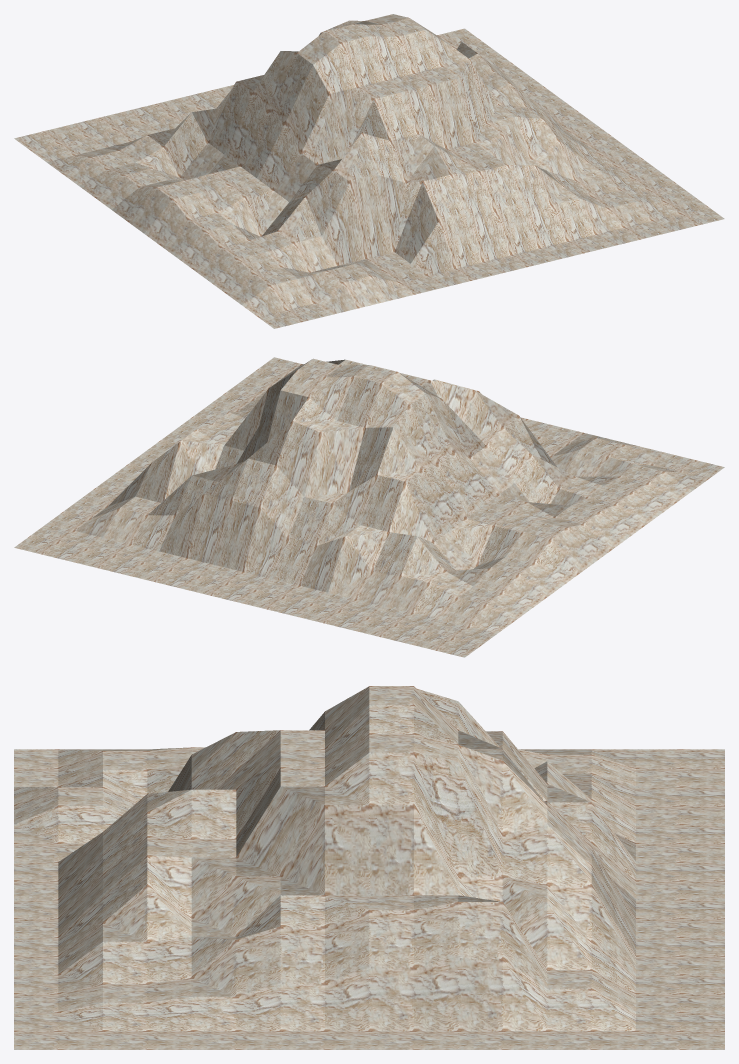
File: courser8a.obj
3 renders of one model, top to bottom at view 1: azimuth 30°, elevation 25°; view 2: azimuth 150°, elevation 25°; view 3: azimuth 270°, elevation 25°, orthographic. The views are drawn at different scales.
Parts seen in each view (by area): view 1: Plane; view 2: Plane; view 3: Plane.
Part boxes in pixels (box(x1,y1,x2,y2)): Plane: box(14, 14, 724, 328); Plane: box(14, 357, 724, 657); Plane: box(14, 686, 724, 1049).
Bounding box in the file's own units: 40 × 12.09 × 40.
1 material, 1 textured.
